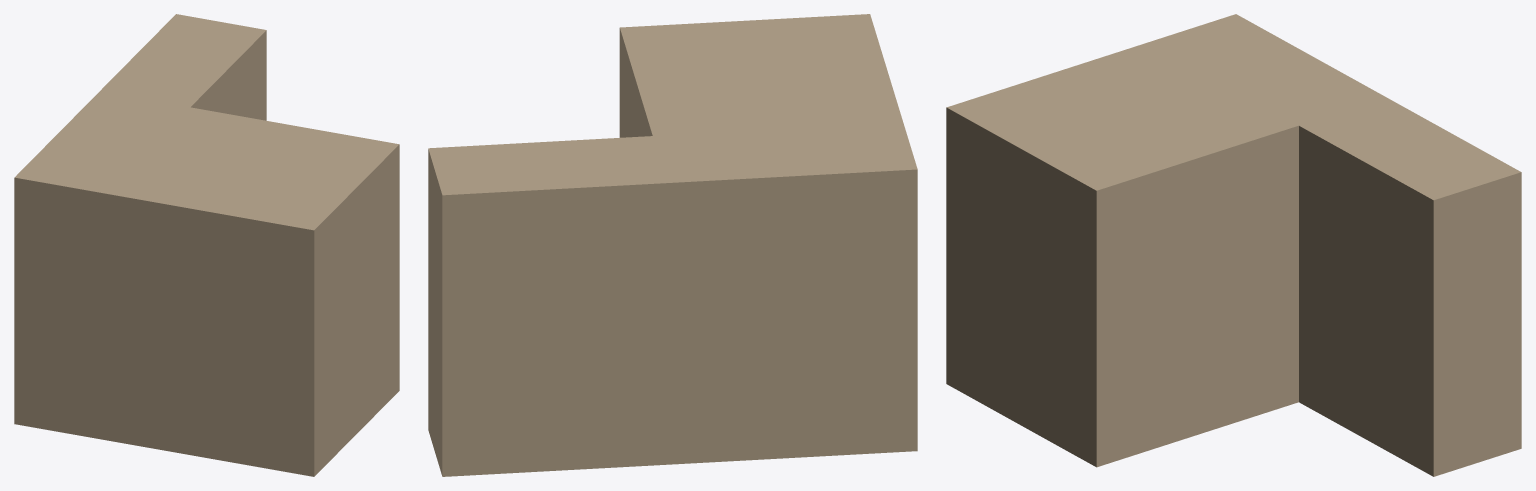
Rendered from bld_106456023.dae.
The picture shows the model from 3 angles, left to right: view 1: azimuth 30°, elevation 25°; view 2: azimuth 150°, elevation 25°; view 3: azimuth 270°, elevation 25°; orthographic projection. The views are drawn at different scales.
Visible parts, largest first — view 1: bld_106456023; view 2: bld_106456023; view 3: bld_106456023.
Boxes of the visible parts, box(x1,y1,x2,y2) form: bld_106456023: box(14, 14, 399, 476); bld_106456023: box(428, 14, 917, 476); bld_106456023: box(946, 14, 1521, 476).
Size of the model in its own units: 11.56 by 15.07 by 8.
